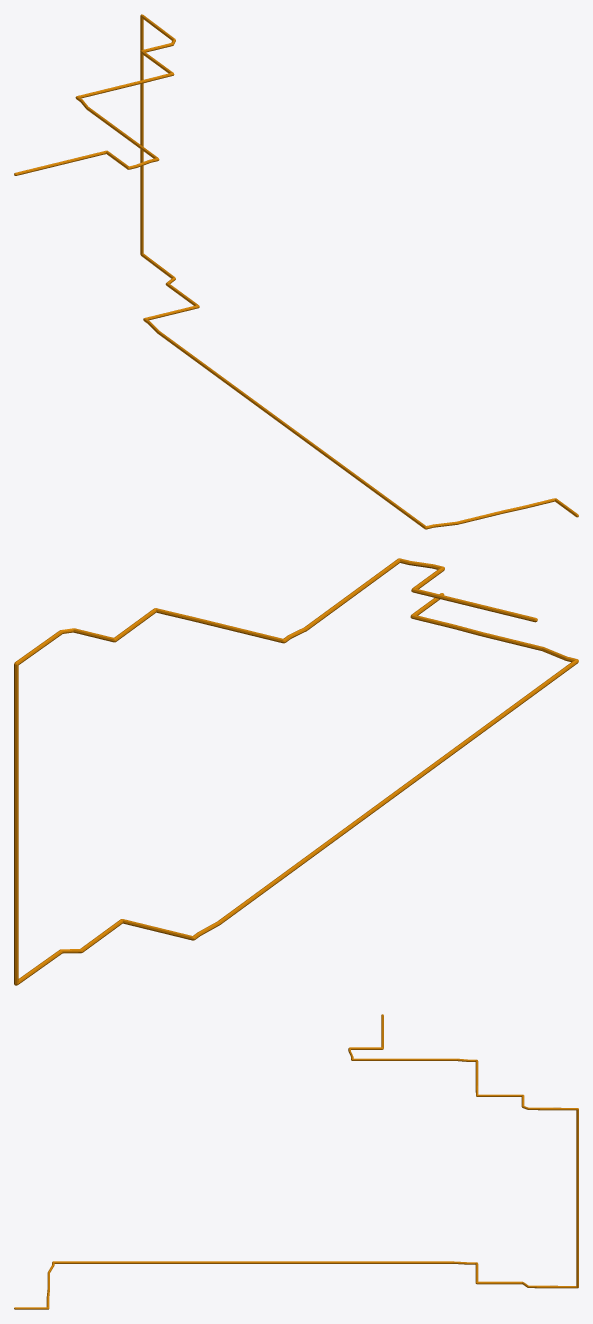
3 views of the same model, one above another, from view 1: azimuth 30°, elevation 25°; view 2: azimuth 150°, elevation 25°; view 3: azimuth 270°, elevation 25° (orthographic). The views are drawn at different scales.
Size of the model in its own units: 2099 by 1520 by 4315.
